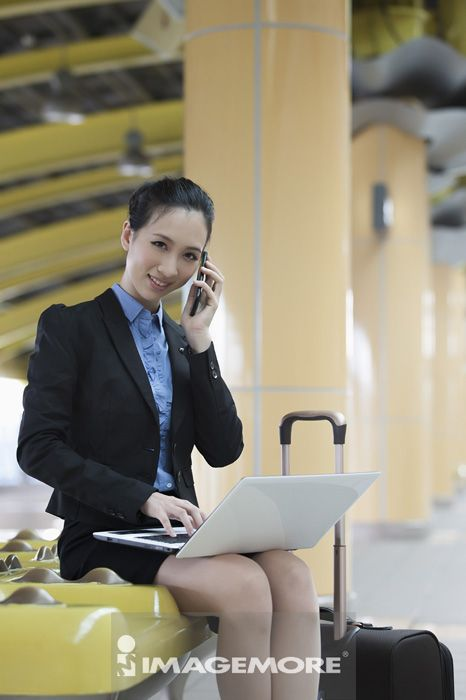phone: (191, 251, 209, 318)
talk: (137, 231, 222, 342)
